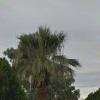Palm tree: (10, 19, 77, 95)
